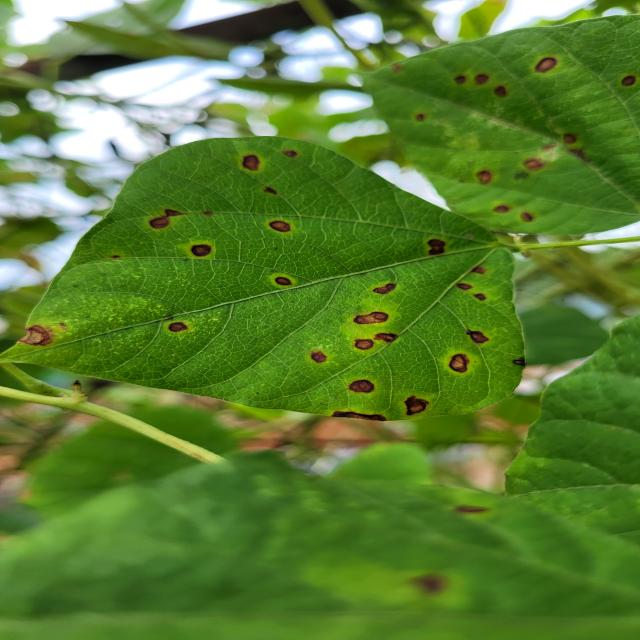Dolicos bean_cercospora leaf spot: (0, 130, 519, 424), (356, 12, 640, 233)
